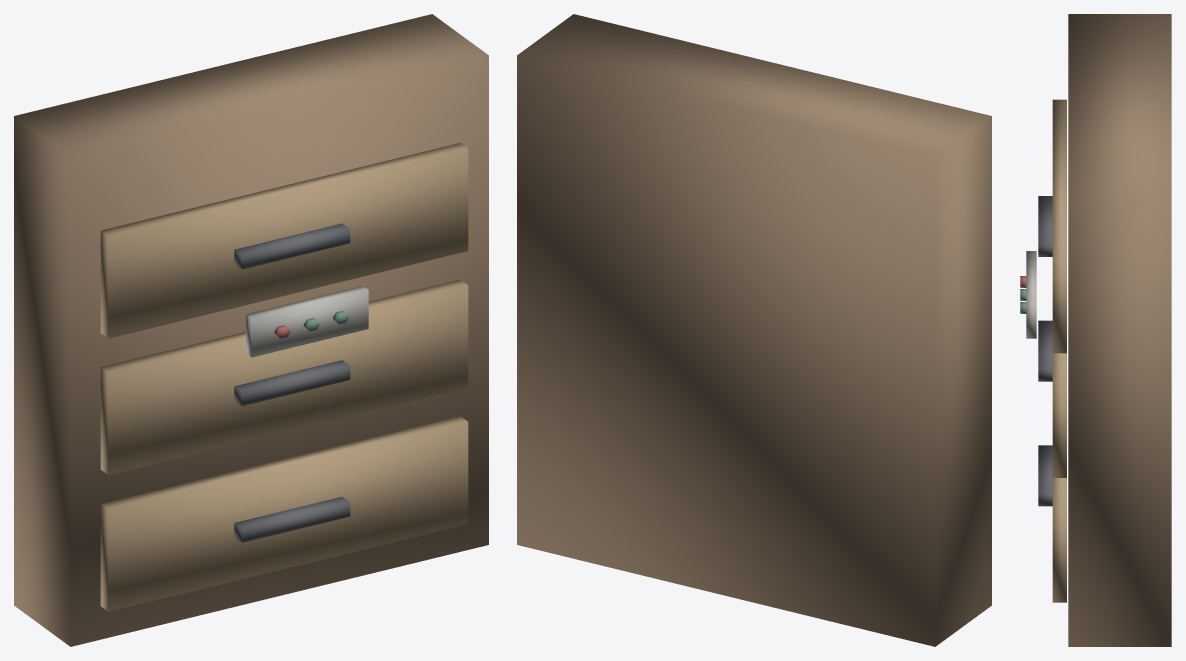
Rendered from medicine_cabinet__wide.glb.
The picture shows the model from 3 angles, left to right: view 1: azimuth 30°, elevation 25°; view 2: azimuth 150°, elevation 25°; view 3: azimuth 270°, elevation 25°; orthographic projection. The views are drawn at different scales.
Parts seen in each view (by area): view 1: world; view 2: world; view 3: world.
Boxes of the visible parts, box(x1,y1,x2,y2) form: world: box(14, 14, 488, 646); world: box(517, 14, 991, 646); world: box(1020, 14, 1171, 646).
Size of the model in its own units: 0.7688 by 0.86 by 0.2635.
